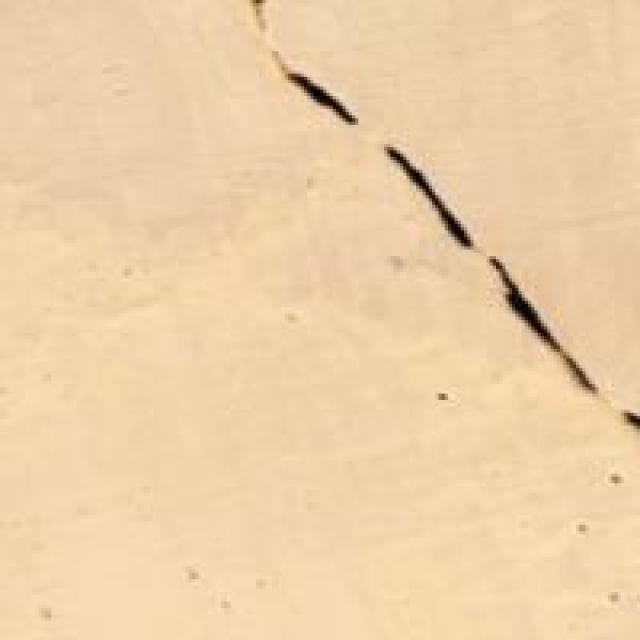crack: (266, 0, 636, 451)
